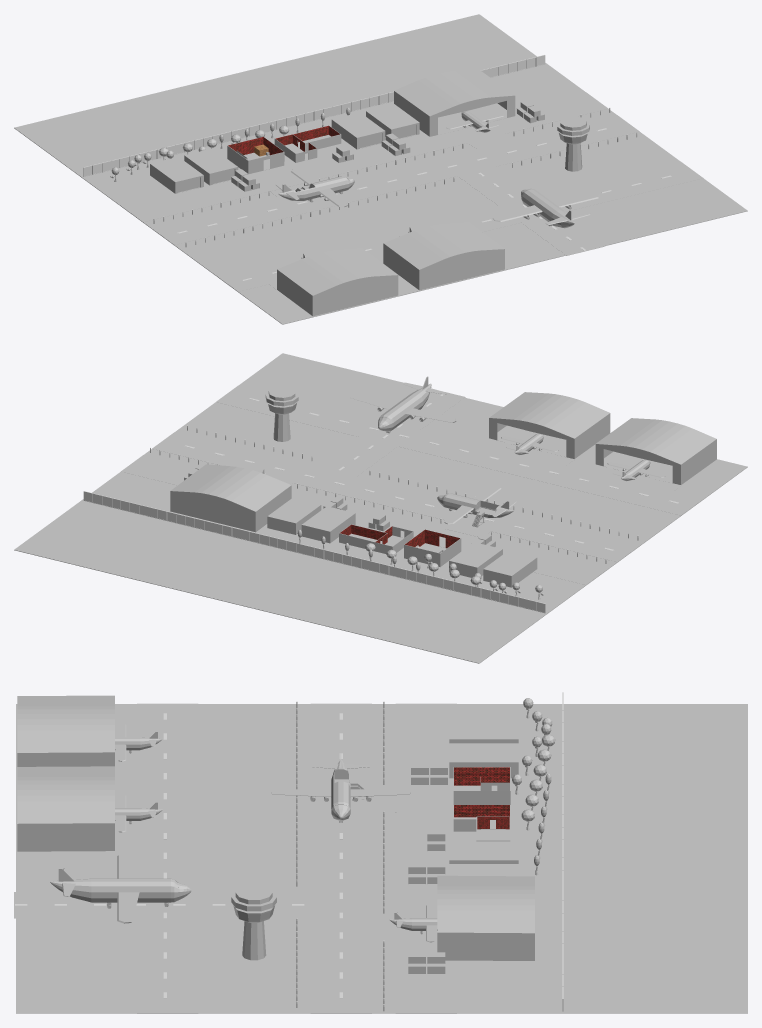
Rendered from stage lv2.fbx.
3 views of the same model, one above another, from view 1: azimuth 30°, elevation 25°; view 2: azimuth 150°, elevation 25°; view 3: azimuth 270°, elevation 25° (orthographic). The views are drawn at different scales.
Parts seen in each view (by area): view 1: rumput, jalanan, Cube.025, Cube.028, Cube.029, Cube.042, Cube.022, Cube.009, Cube.020, pesawat.001, Cube.011, Cylinder.007 (+7 smaller); view 2: rumput, jalanan, Cube.028, Cube.022, Cube.029, Cube.042, Cube.009, Cube.025, Cube.020, pesawat.001, Cylinder.007, gudang 1 (+10 smaller); view 3: rumput, jalanan, Cube.028, Cube.025, Cube.029, Cube.022, Cube.042, Cube.020, pesawat.001, menara, Cylinder.007, gudang 1 (+13 smaller).
Boxes of the visible parts, x1=… form: rumput: x1=14, y1=14, x2=747, y2=324; jalanan: x1=152, y1=115, x2=639, y2=244; Cube.025: x1=121, y1=92, x2=608, y2=222; Cube.028: x1=216, y1=162, x2=703, y2=291; Cube.029: x1=383, y1=222, x2=504, y2=290; Cube.042: x1=277, y1=248, x2=398, y2=316; Cube.022: x1=394, y1=70, x2=515, y2=136; Cube.009: x1=83, y1=55, x2=545, y2=176; Cube.020: x1=458, y1=166, x2=605, y2=255; pesawat.001: x1=493, y1=188, x2=599, y2=228; Cube.011: x1=274, y1=125, x2=341, y2=162; Cylinder.007: x1=276, y1=168, x2=354, y2=207; rumput: x1=14, y1=353, x2=747, y2=663; jalanan: x1=152, y1=432, x2=639, y2=562; Cube.028: x1=216, y1=385, x2=703, y2=515; Cube.022: x1=170, y1=464, x2=291, y2=532; Cube.029: x1=489, y1=392, x2=610, y2=458; Cube.042: x1=595, y1=418, x2=716, y2=484; Cube.009: x1=83, y1=491, x2=545, y2=613; Cube.025: x1=121, y1=455, x2=607, y2=584; Cube.020: x1=318, y1=392, x2=465, y2=476; pesawat.001: x1=349, y1=376, x2=456, y2=433; Cylinder.007: x1=437, y1=485, x2=516, y2=524; gudang 1: x1=404, y1=529, x2=461, y2=566; rumput: x1=16, y1=704, x2=747, y2=1013; jalanan: x1=310, y1=703, x2=371, y2=1013; Cube.028: x1=137, y1=703, x2=198, y2=1013; Cube.025: x1=395, y1=703, x2=456, y2=1013; Cube.029: x1=17, y1=766, x2=114, y2=851; Cube.022: x1=437, y1=875, x2=534, y2=960; Cube.042: x1=17, y1=695, x2=114, y2=766; Cube.020: x1=14, y1=892, x2=312, y2=918; pesawat.001: x1=50, y1=853, x2=191, y2=923; menara: x1=231, y1=885, x2=276, y2=960; Cylinder.007: x1=271, y1=751, x2=410, y2=822; gudang 1: x1=453, y1=767, x2=510, y2=804.
Bounding box in the file's own units: 10281 × 1004 × 10308.
